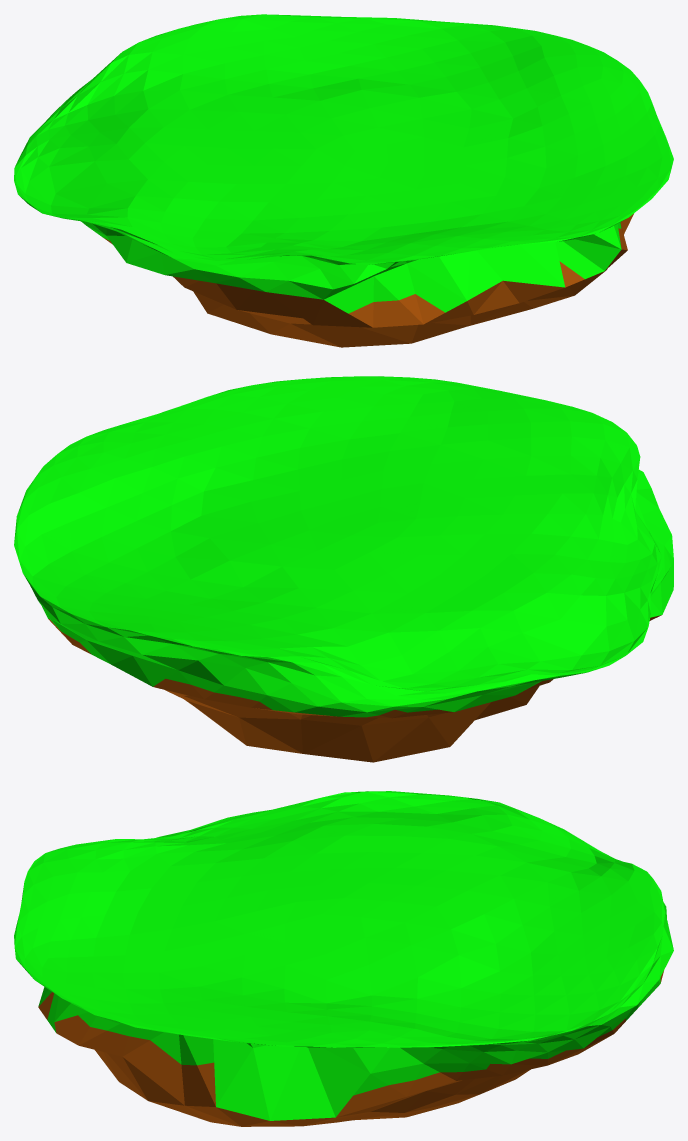
Rendered from Island_3.fbx.
3 views of the same model, one above another, from view 1: azimuth 30°, elevation 25°; view 2: azimuth 150°, elevation 25°; view 3: azimuth 270°, elevation 25° (orthographic). The views are drawn at different scales.
Visible parts, largest first — view 1: Island_3; view 2: Island_3; view 3: Island_3.
Part boxes in pixels (bbox=[...]): Island_3: bbox=[14, 14, 673, 347]; Island_3: bbox=[14, 376, 673, 762]; Island_3: bbox=[14, 791, 673, 1126].
Size of the model in its own units: 202 by 56.55 by 198.
